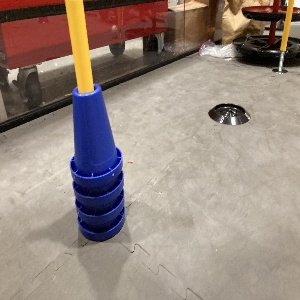Blue_4: (70, 84, 124, 239)
